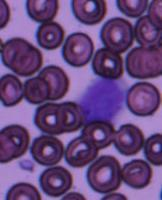L: (78, 77, 126, 122)
